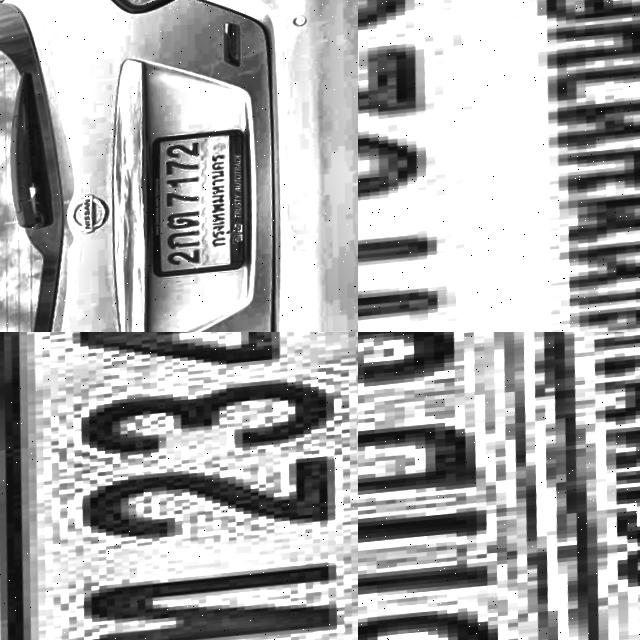license-plate: (0, 332, 358, 640), (358, 0, 640, 332), (358, 332, 640, 640), (143, 127, 263, 279)
